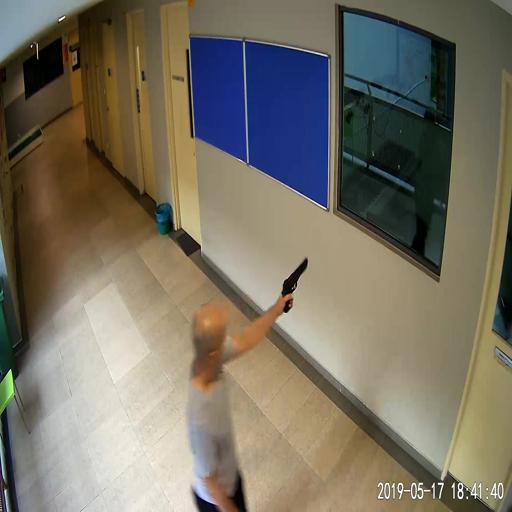pistol: (282, 258, 307, 311)
